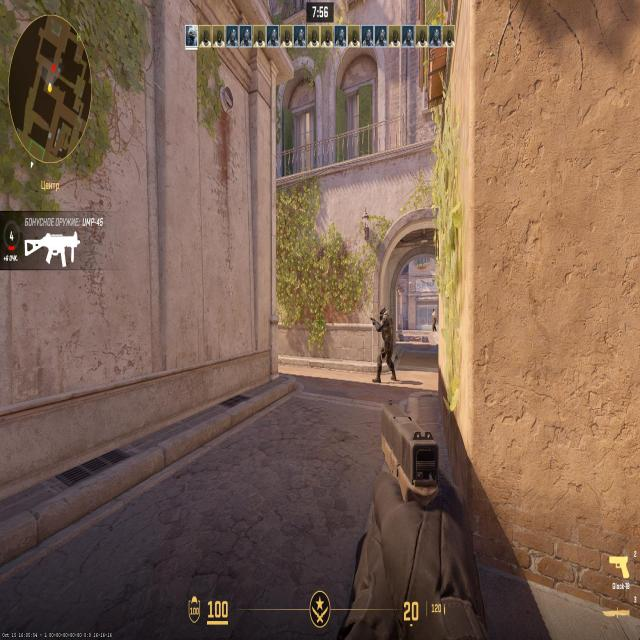CT: (381, 307, 397, 374)
CT_heat: (382, 309, 387, 318)
T: (432, 308, 436, 329)
T_heat: (433, 307, 435, 315)
